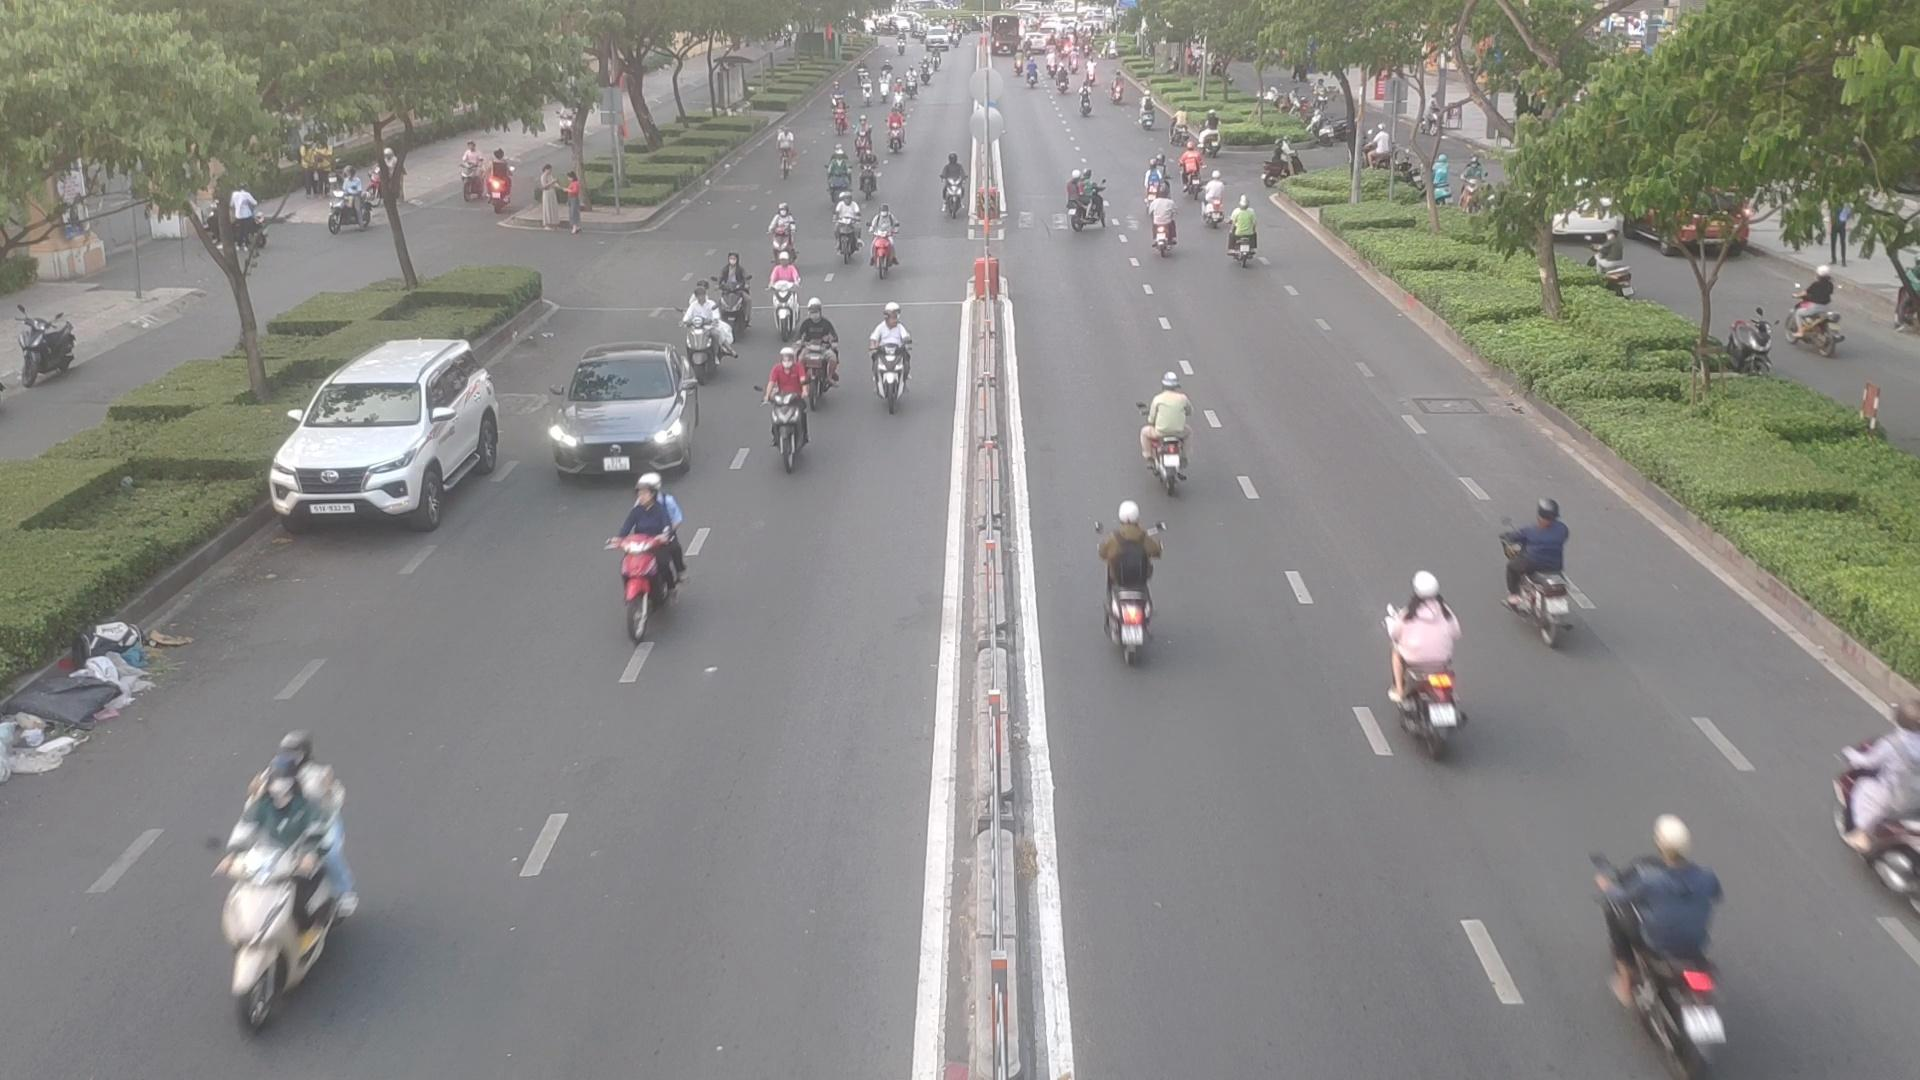car: (272, 338, 516, 531), (547, 349, 703, 477)
motorbike: (199, 737, 365, 1011), (1600, 816, 1745, 1076), (1379, 580, 1481, 757), (1841, 705, 1920, 910), (601, 483, 694, 636), (1091, 513, 1172, 663), (1501, 501, 1581, 644), (764, 353, 829, 473), (1137, 384, 1207, 489), (862, 313, 916, 409), (680, 294, 738, 376), (799, 302, 841, 400), (1056, 169, 1109, 233), (709, 256, 757, 327), (932, 149, 971, 220), (1226, 204, 1269, 266), (764, 262, 804, 326), (1149, 189, 1182, 265), (865, 216, 903, 277), (1195, 169, 1230, 227), (764, 210, 799, 264), (825, 142, 855, 203), (832, 215, 866, 265), (1178, 148, 1208, 196), (880, 112, 910, 154), (857, 145, 880, 194), (1142, 156, 1163, 206), (853, 117, 873, 156)
